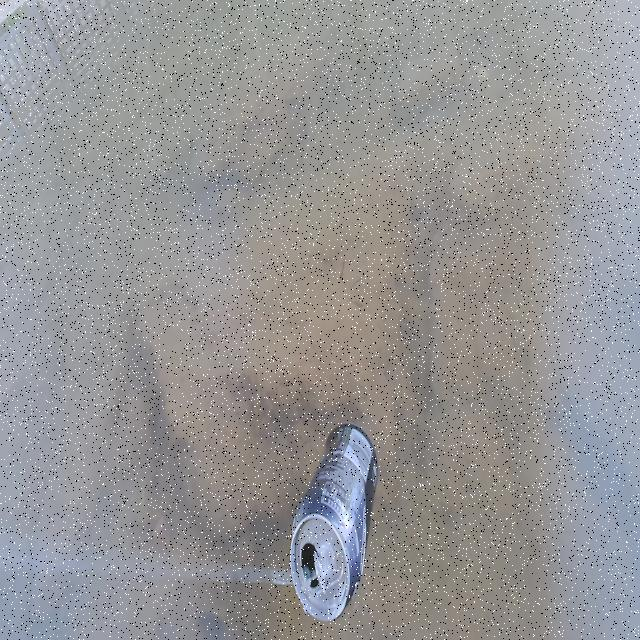Can: (284, 423, 382, 624)
